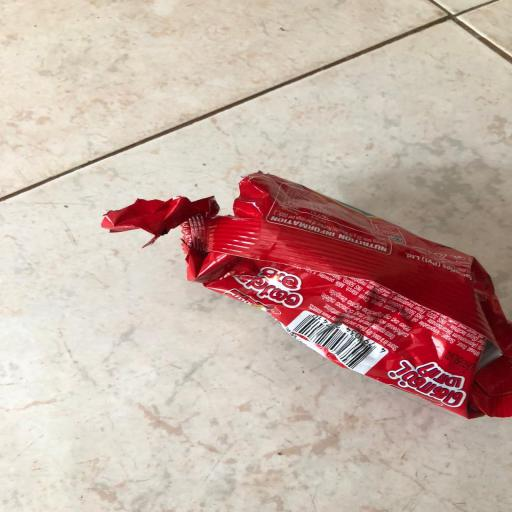waste: (84, 151, 512, 427)
